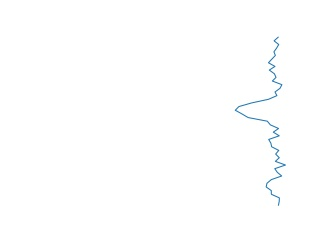interdistributaryEstuary: (231, 37, 289, 206)
